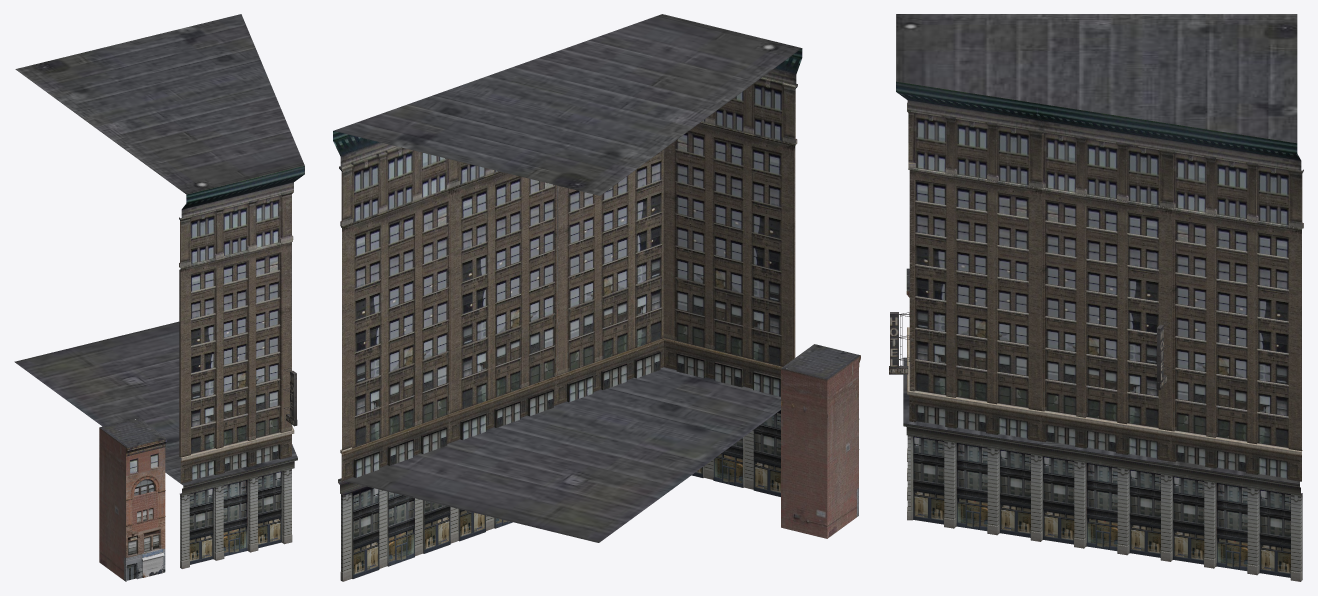
Rendered from NYBuilding.fbx.
The picture shows the model from 3 angles, left to right: view 1: azimuth 30°, elevation 25°; view 2: azimuth 150°, elevation 25°; view 3: azimuth 270°, elevation 25°; orthographic projection. The views are drawn at different scales.
Visible parts, largest first — view 1: main, main.001; view 2: main, main.001; view 3: main.
Part boxes in pixels (x1,y1,x2,y2): main: [14, 14, 304, 568]; main.001: [99, 418, 166, 581]; main: [333, 14, 802, 581]; main.001: [781, 344, 860, 538]; main: [889, 14, 1303, 581].
Size of the model in its own units: 18254 by 23541 by 19956.
Materials: 1 (1 with a texture image).
